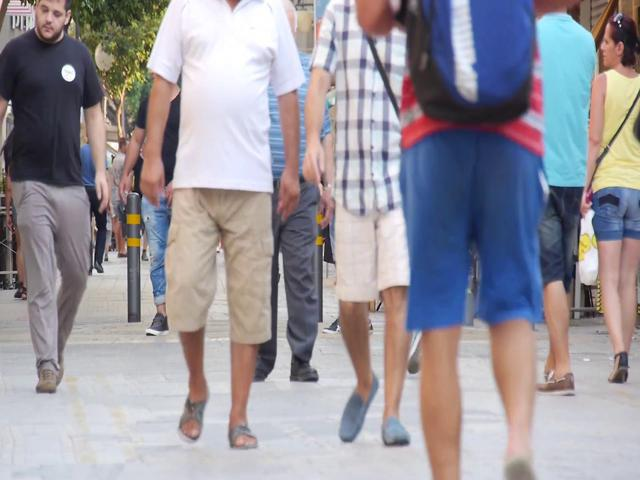shoe: (339, 373, 379, 442), (179, 384, 209, 440), (536, 370, 575, 396), (381, 418, 410, 445), (227, 425, 258, 449), (145, 312, 169, 337), (608, 351, 627, 382), (289, 363, 319, 382), (36, 368, 57, 394)
